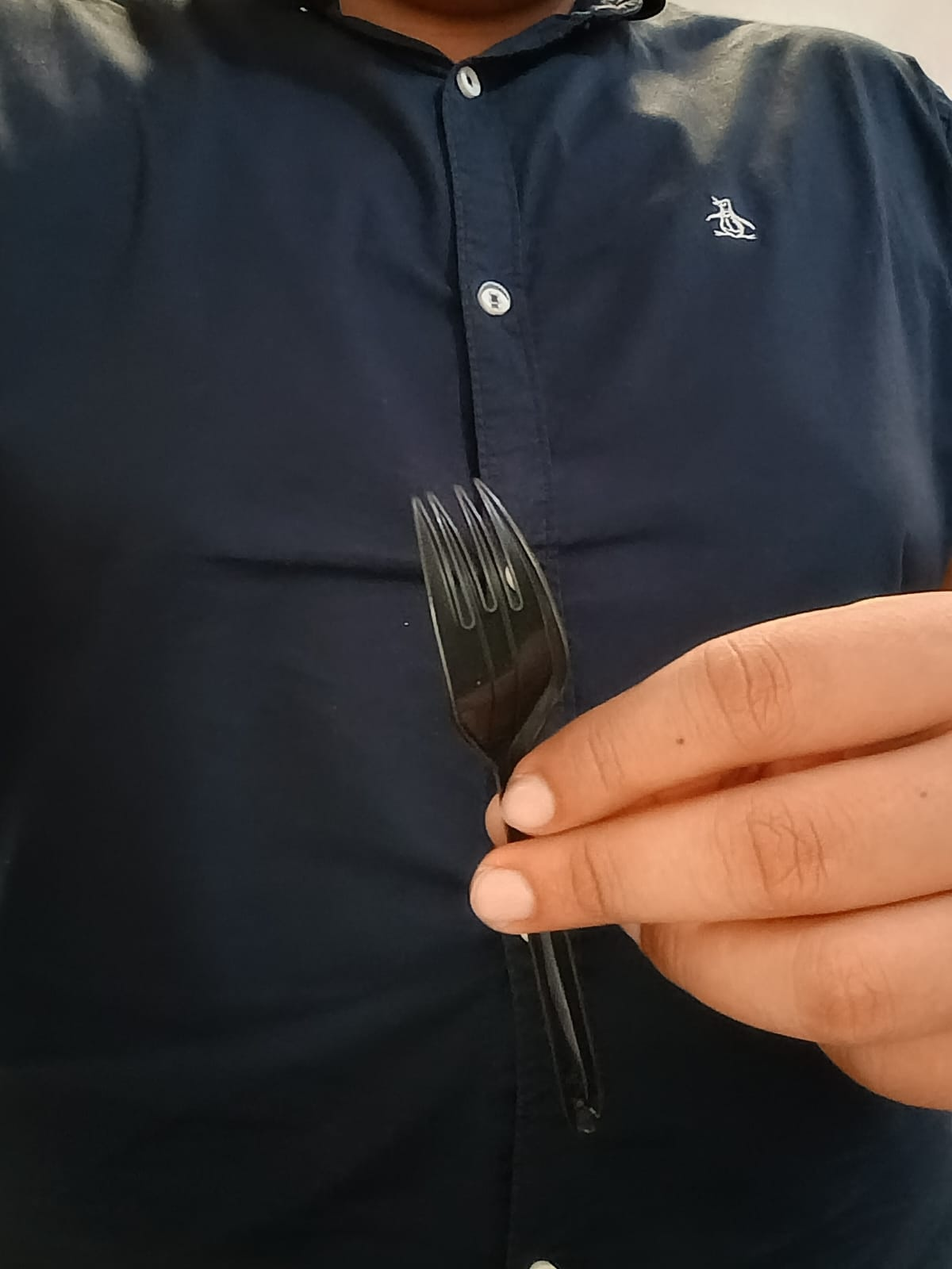Plastico: (412, 478, 602, 1134)
